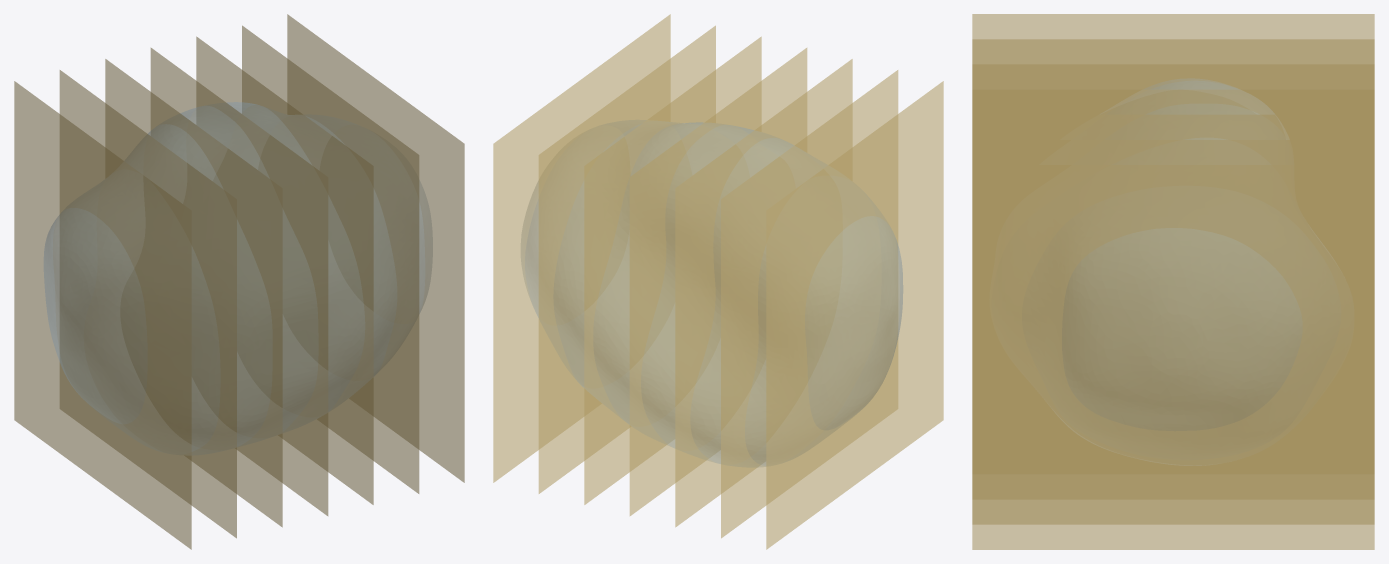
File: prompt.glb
3 views of the same model, side by side, from view 1: azimuth 30°, elevation 25°; view 2: azimuth 150°, elevation 25°; view 3: azimuth 270°, elevation 25° (orthographic). The views are drawn at different scales.
Visible parts, largest first — view 1: world; view 2: world; view 3: world.
Boxes of the visible parts, x1,y1,x2,y2 form: world: (14,14,464,549); world: (493,14,943,549); world: (972,14,1374,549).
Bounding box in the file's own units: 0.9613 × 0.8906 × 0.8438.
